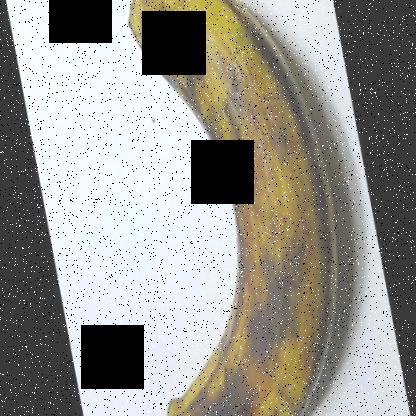overripe: (116, 0, 346, 415)
